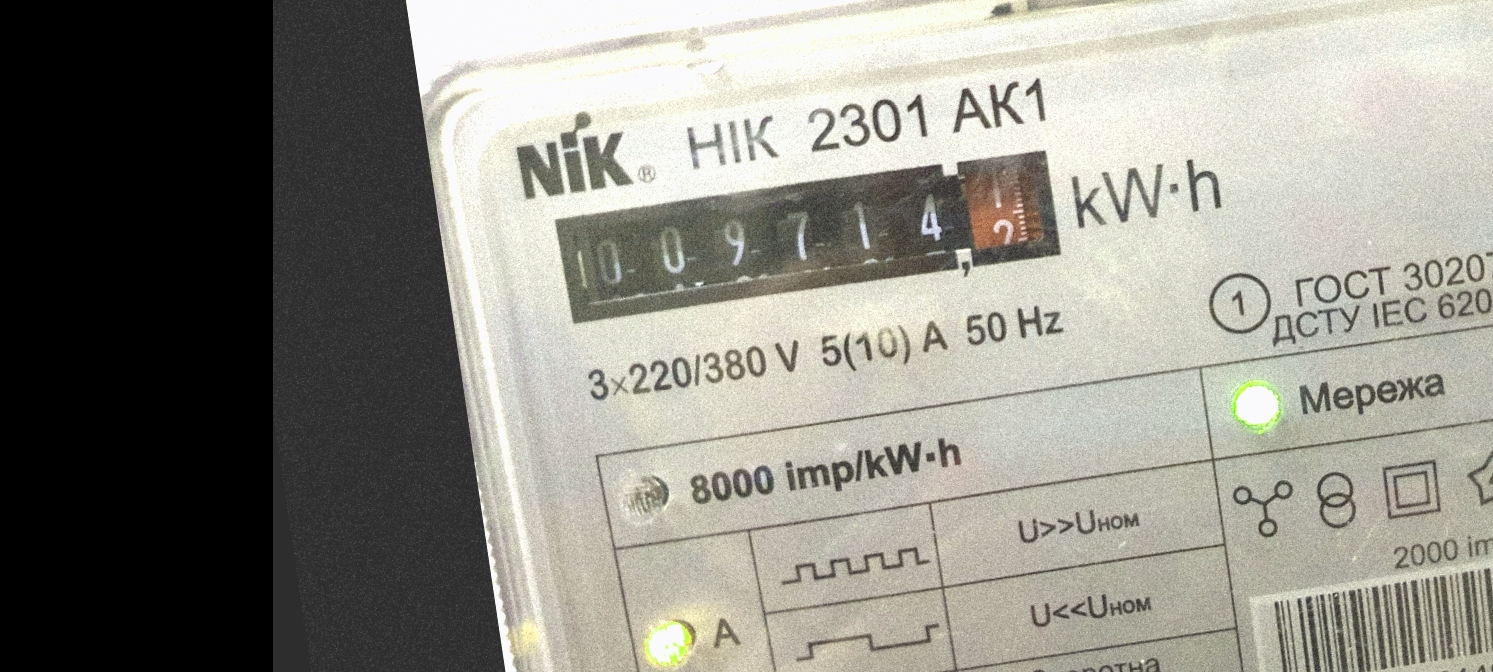0: (592, 232, 628, 290), (655, 220, 689, 277)
1: (848, 195, 878, 253), (986, 167, 1006, 211)
2: (990, 213, 1018, 247)
4: (912, 188, 948, 246)
7: (784, 207, 818, 264)
9: (717, 213, 753, 269)
screen: (538, 128, 1082, 347)
